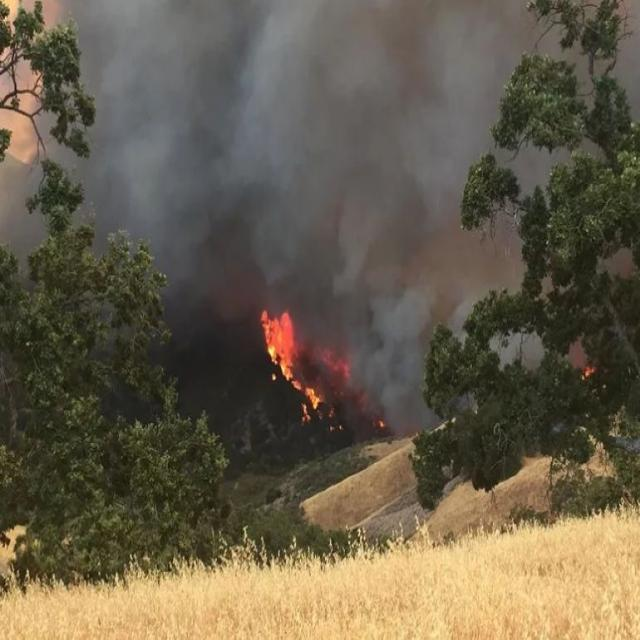Fire: (258, 302, 322, 436)
Smoke: (31, 1, 640, 373)
